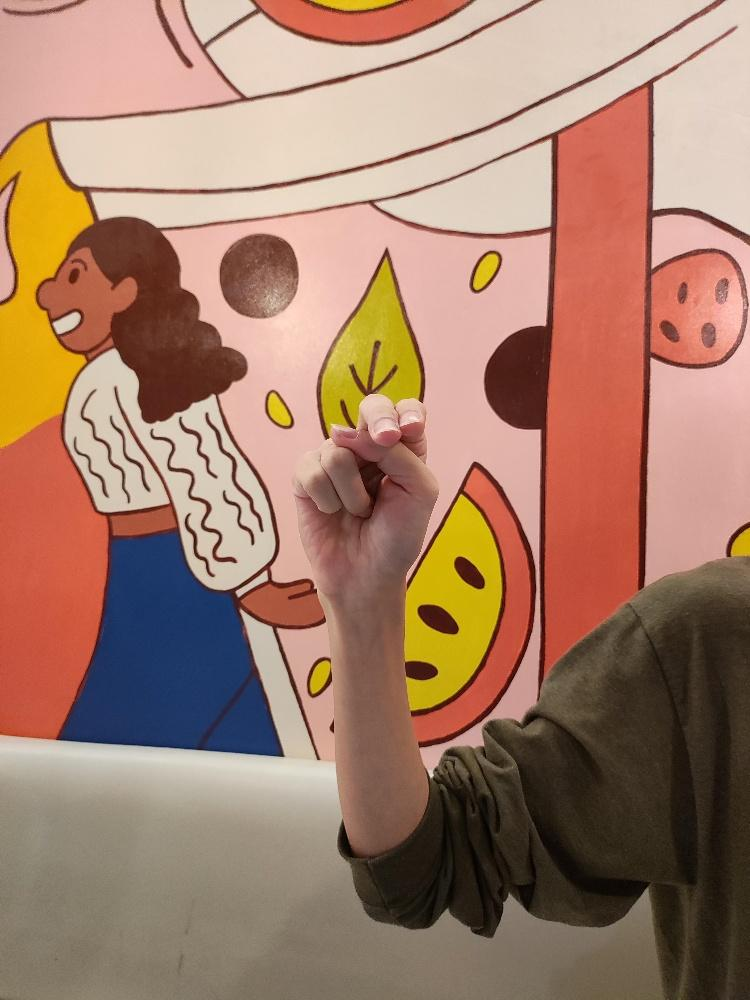n: (290, 388, 442, 597)
